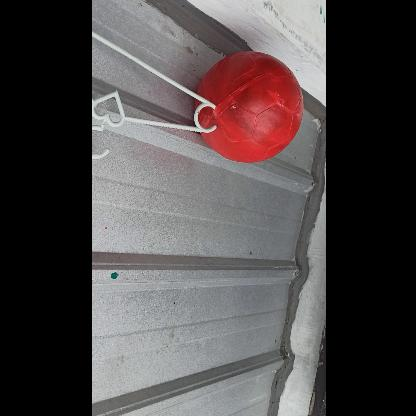red_ball: (193, 53, 304, 164)
